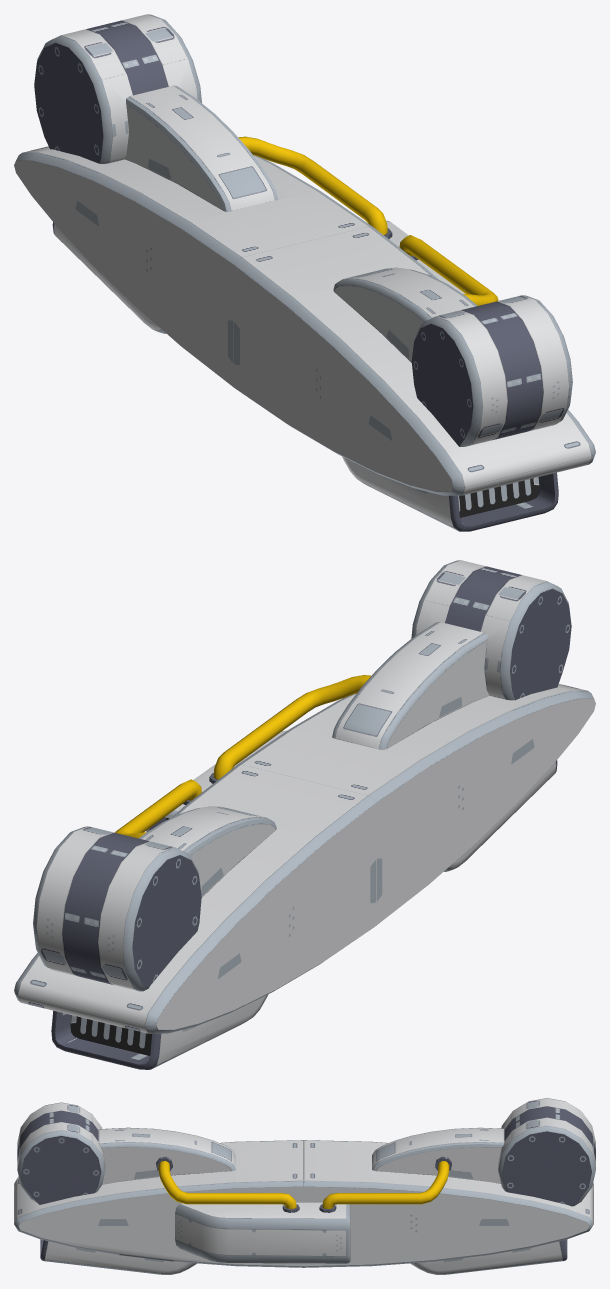
The model's file is Reactor_Support_06.FBX.
3 renders of one model, top to bottom at view 1: azimuth 30°, elevation 25°; view 2: azimuth 150°, elevation 25°; view 3: azimuth 270°, elevation 25°, orthographic. The views are drawn at different scales.
Parts seen in each view (by area): view 1: Reactor_Support_06; view 2: Reactor_Support_06; view 3: Reactor_Support_06.
Part boxes in pixels (x1,y1,x2,y2): Reactor_Support_06: (14, 14, 595, 531); Reactor_Support_06: (14, 560, 595, 1069); Reactor_Support_06: (14, 1098, 595, 1274).
Size of the model in its own units: 32.93 by 36.84 by 130.
3 materials, 3 textured.
